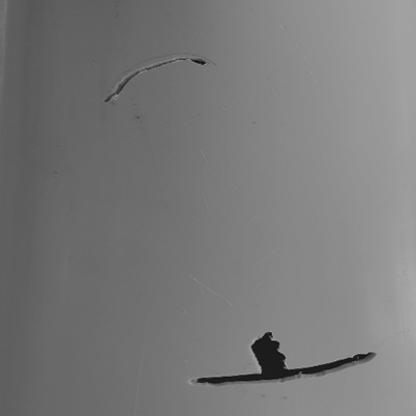fengxi: (194, 353, 377, 384), (104, 56, 208, 105)
kongdong: (249, 330, 291, 372)
